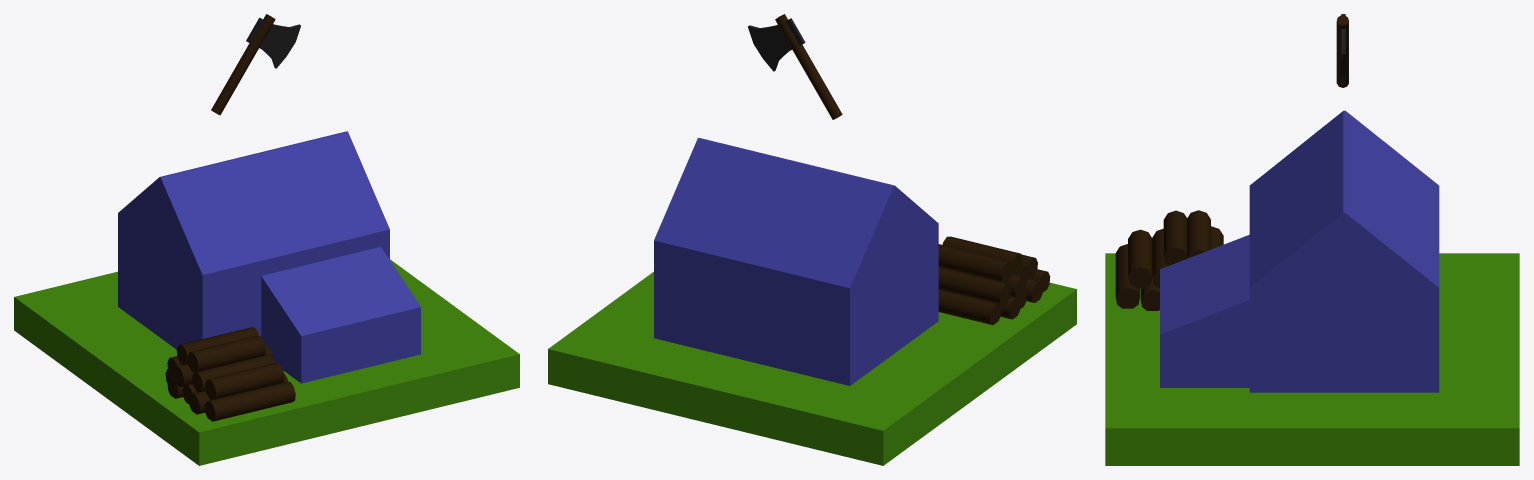
Rendered from Woodworker3.obj.
The picture shows the model from 3 angles, left to right: view 1: azimuth 30°, elevation 25°; view 2: azimuth 150°, elevation 25°; view 3: azimuth 270°, elevation 25°; orthographic projection. The views are drawn at different scales.
Parts seen in each view (by area): view 1: Box001, Tilebase006, Cylinder010, Cylinder013, Cylinder016, Box690, Cylinder005, Cylinder012, Cylinder015; view 2: Box001, Tilebase006, Cylinder015, Cylinder014, Cylinder006, Box690, Cylinder005, Cylinder016; view 3: Box001, Tilebase006, Cylinder013, Cylinder016, Cylinder010, Cylinder015, Cylinder005, Cylinder012, Cylinder009.
Part boxes in pixels (left/top/right/bottom): Box001: left=118, top=131, right=420, bottom=383; Tilebase006: left=14, top=259, right=519, bottom=465; Cylinder010: left=204, top=381, right=295, bottom=421; Cylinder013: left=205, top=363, right=284, bottom=399; Cylinder016: left=188, top=336, right=265, bottom=372; Box690: left=246, top=17, right=300, bottom=68; Cylinder005: left=211, top=14, right=275, bottom=115; Cylinder012: left=192, top=354, right=274, bottom=392; Cylinder015: left=176, top=327, right=259, bottom=364; Box001: left=654, top=138, right=938, bottom=385; Tilebase006: left=548, top=272, right=1076, bottom=465; Cylinder015: left=938, top=244, right=1012, bottom=282; Cylinder014: left=938, top=267, right=1010, bottom=305; Cylinder006: left=938, top=289, right=1000, bottom=325; Box690: left=748, top=18, right=805, bottom=71; Cylinder005: left=775, top=14, right=842, bottom=119; Cylinder016: left=942, top=236, right=1022, bottom=274; Box001: left=1160, top=110, right=1439, bottom=392; Tilebase006: left=1105, top=253, right=1519, bottom=465; Cylinder013: left=1128, top=229, right=1152, bottom=288; Cylinder016: left=1163, top=210, right=1187, bottom=265; Cylinder010: left=1115, top=244, right=1139, bottom=308; Cylinder015: left=1186, top=210, right=1210, bottom=258; Cylinder005: left=1336, top=15, right=1348, bottom=87; Cylinder012: left=1152, top=228, right=1167, bottom=287; Cylinder009: left=1140, top=278, right=1159, bottom=310.
Size of the model in its own units: 10 by 9.86 by 10.
